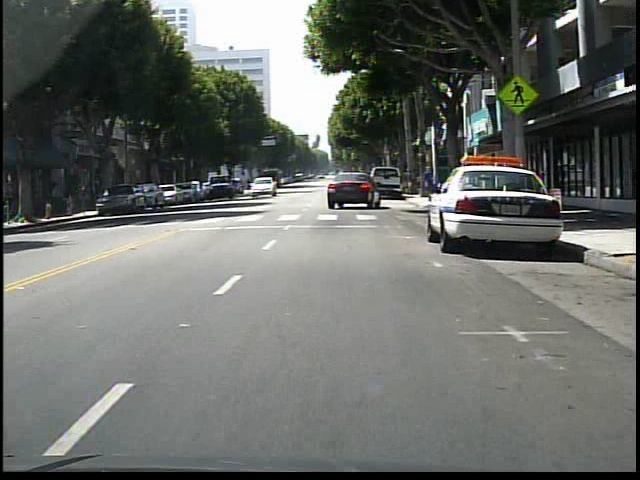person: (422, 164, 443, 206)
